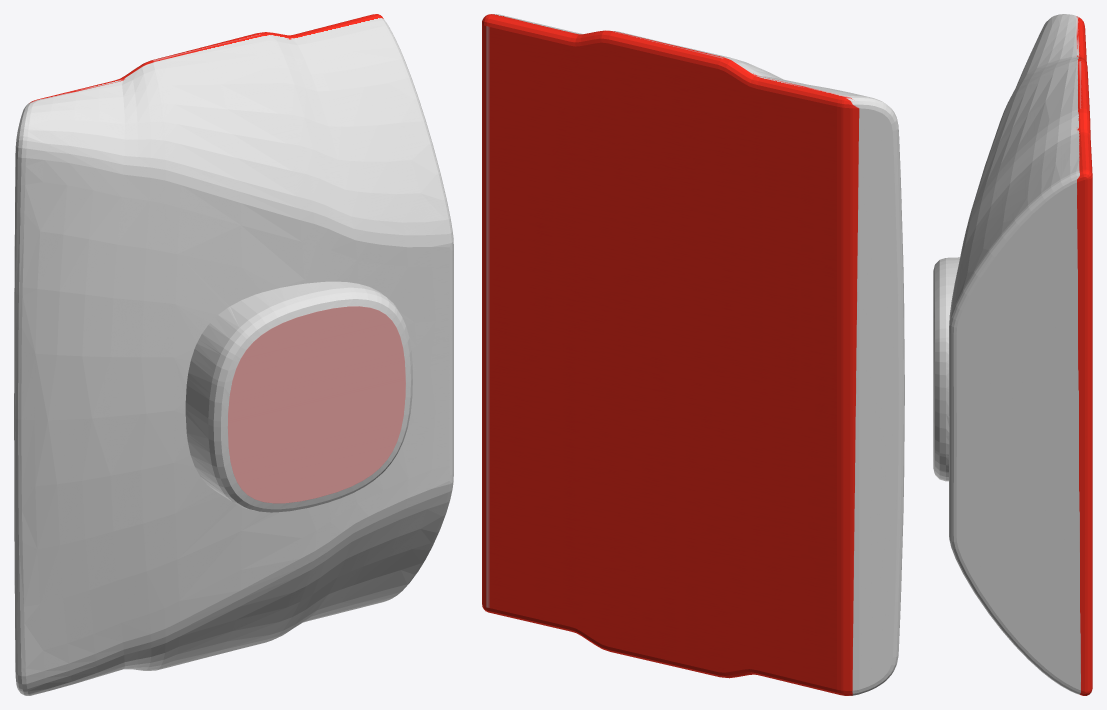
The model's file is armroot_viz.dae.
3 renders of one model, left to right at view 1: azimuth 30°, elevation 25°; view 2: azimuth 150°, elevation 25°; view 3: azimuth 270°, elevation 25°, orthographic. The views are drawn at different scales.
Visible parts, largest first — view 1: node; view 2: node; view 3: node.
Boxes of the visible parts, x1,y1,x2,y2 form: node: (14,14,453,695); node: (482,14,904,695); node: (933,14,1092,695).
Bounding box in the file's own units: 155 × 231 × 61.21.
1 material, 1 textured.
